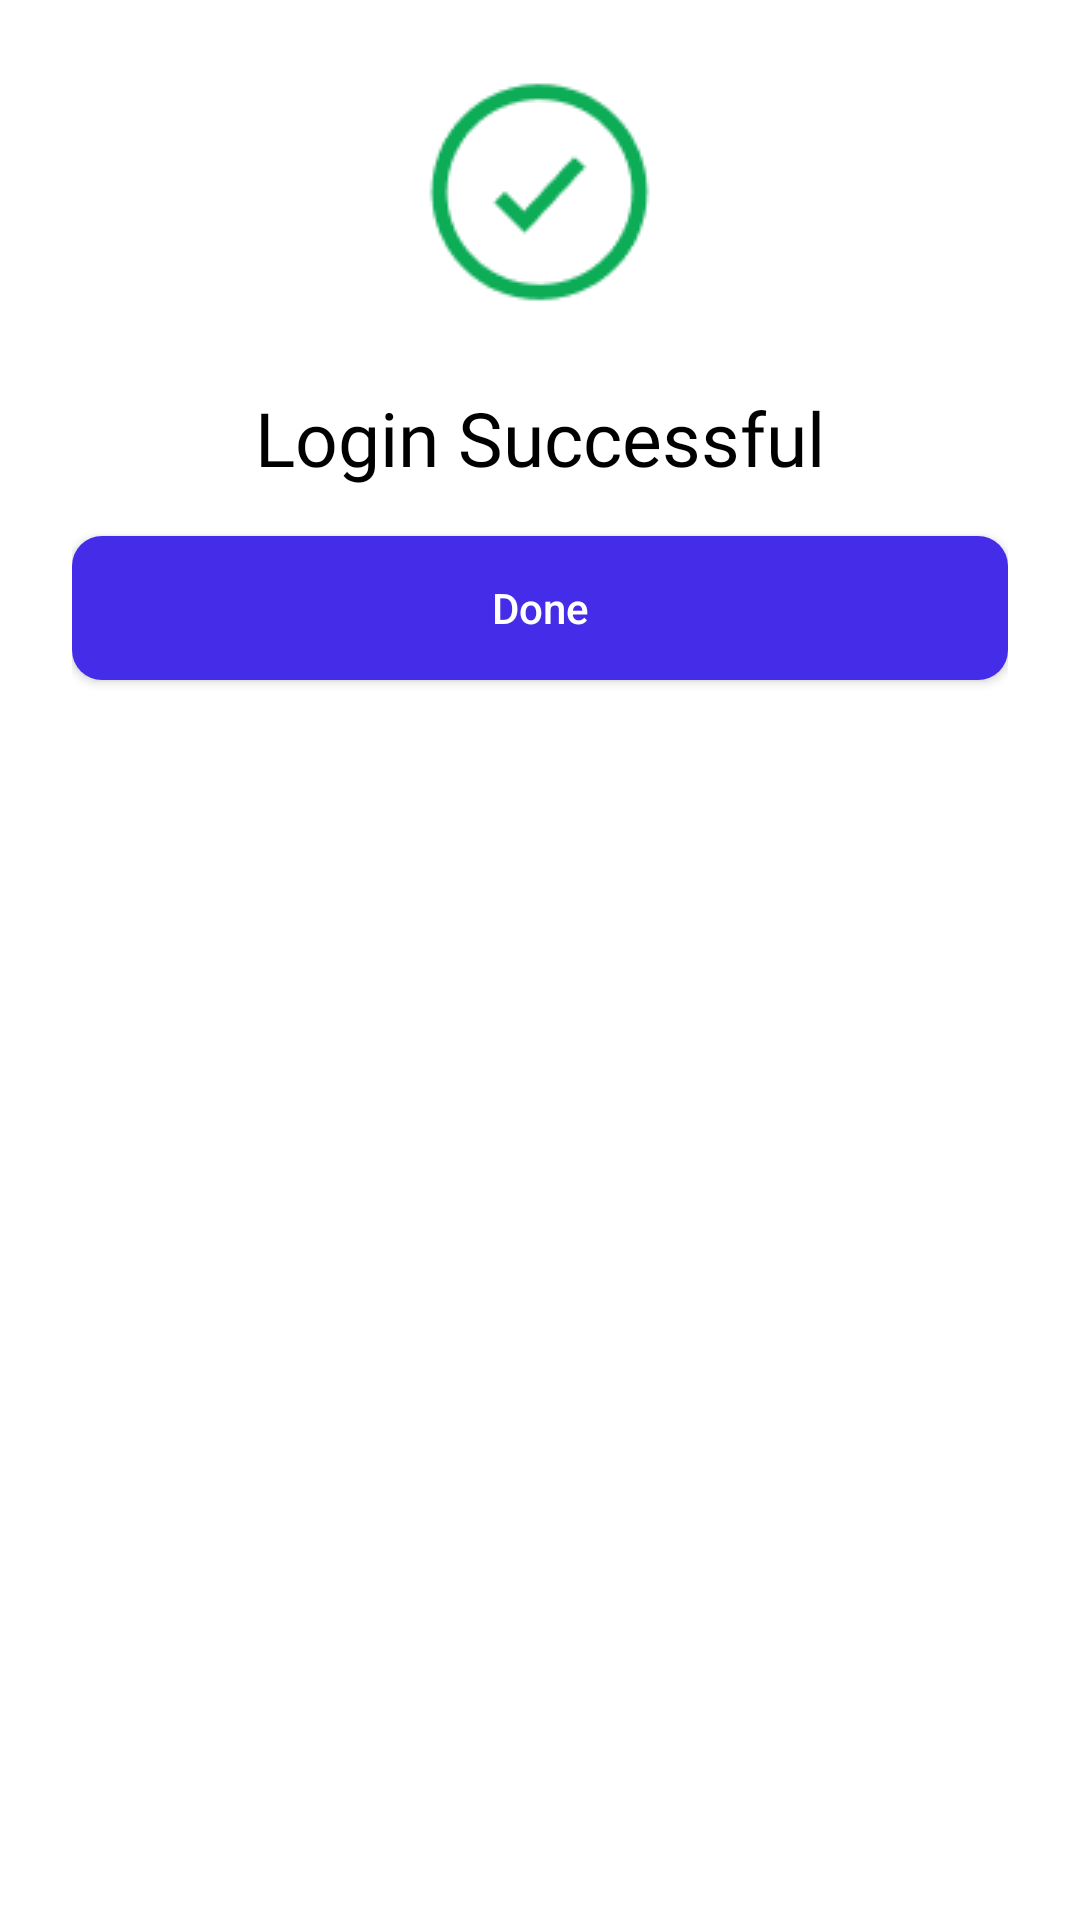

Named icons in this screenshot (1080w x 1920h) and their bounding boxes, (x1, y1, x2, y2):
check mark: (429, 83, 650, 301)
